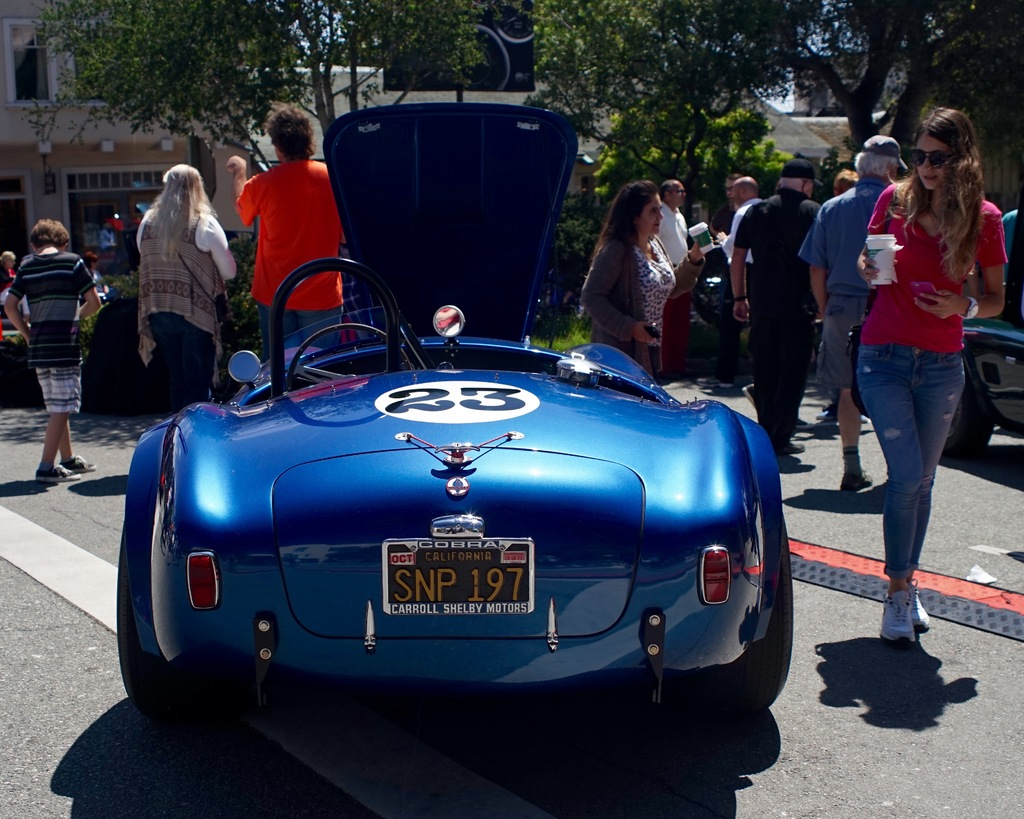cars: (111, 85, 793, 766)
